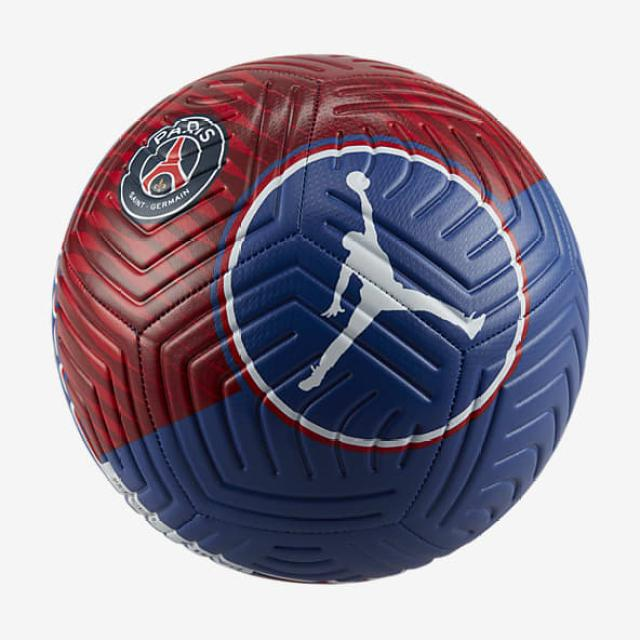soccer ball: (54, 52, 588, 586)
